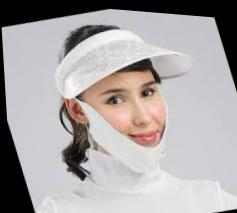WRONG: (82, 69, 181, 171)
